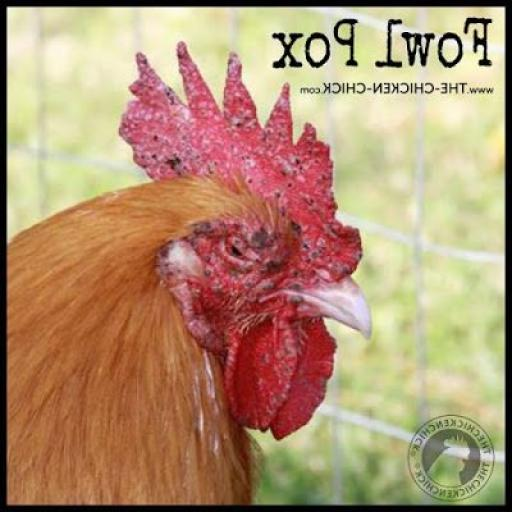disease: (143, 217, 369, 439), (110, 39, 359, 214)
